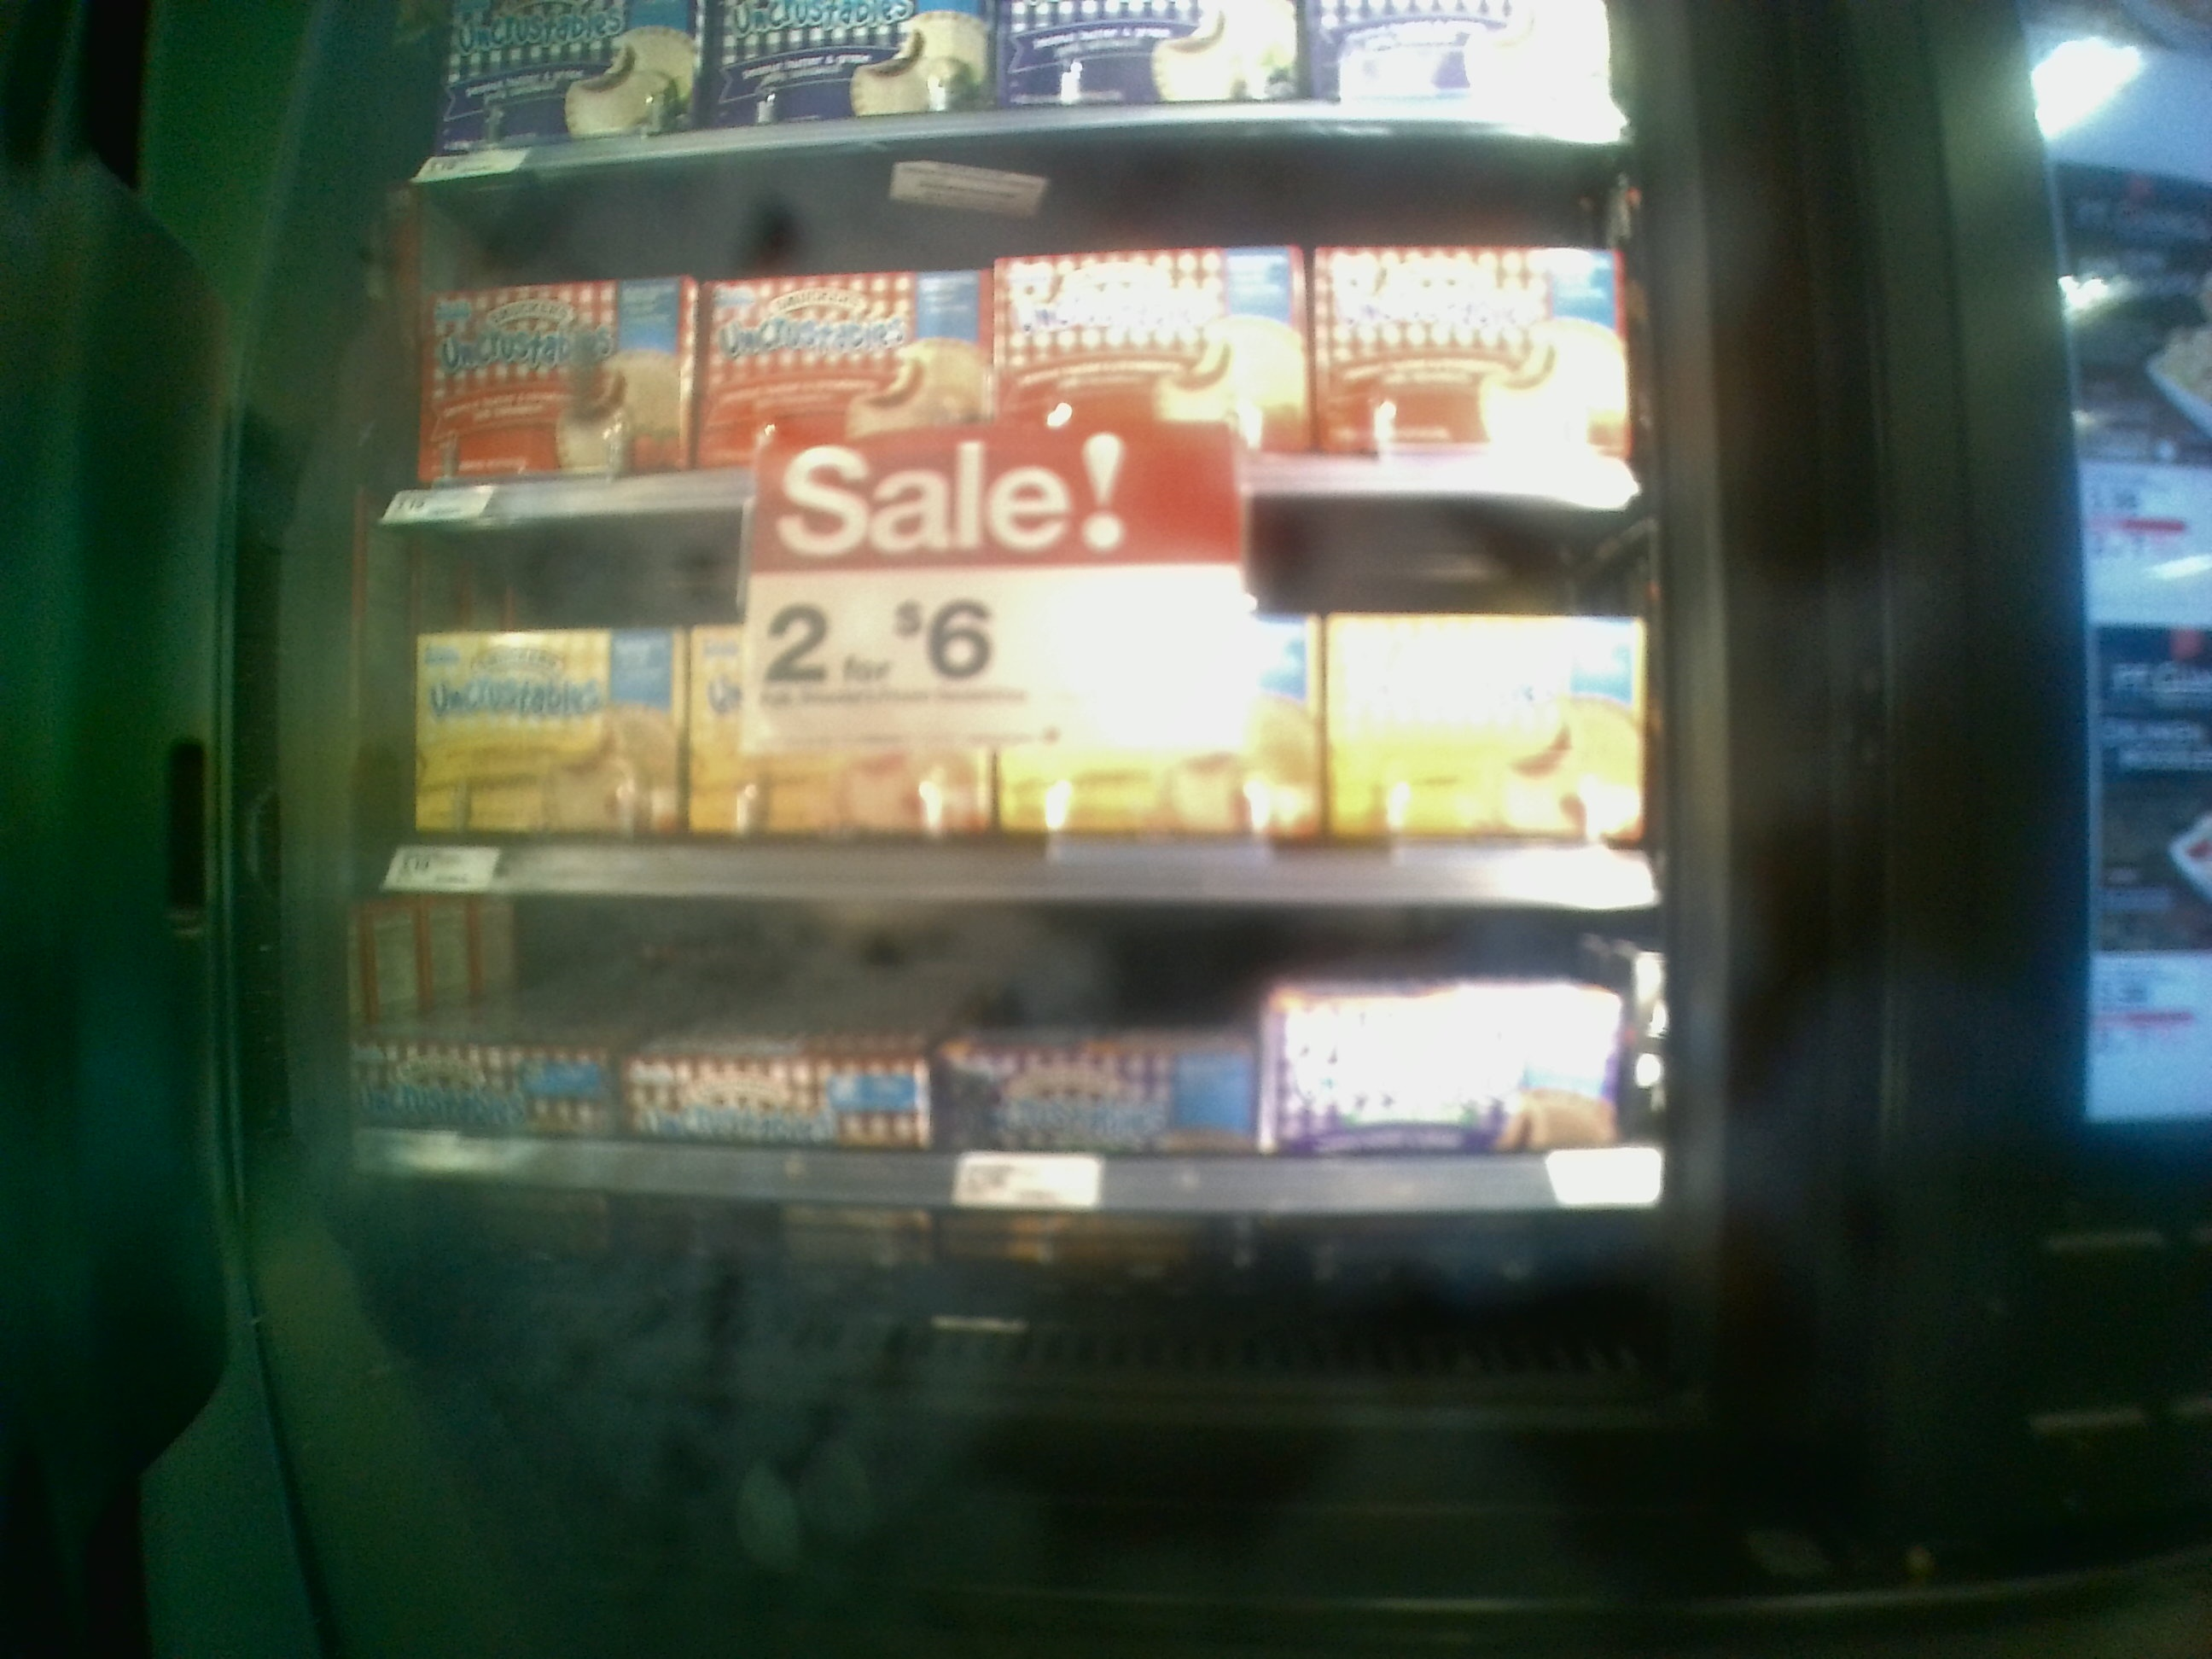shelf: (361, 911, 1684, 1441), (387, 528, 1655, 918), (388, 192, 1655, 525)
